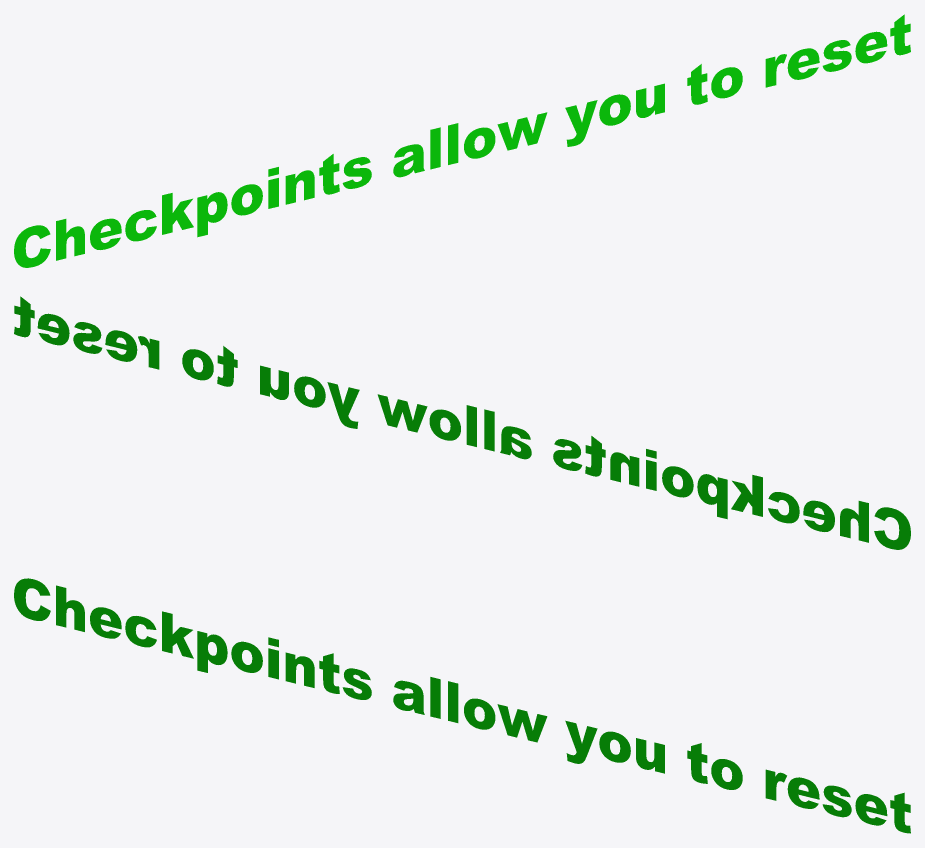
The model's file is tutorial_2.dae.
The picture shows the model from 3 angles, top to bottom: view 1: azimuth 30°, elevation 25°; view 2: azimuth 150°, elevation 25°; view 3: azimuth 330°, elevation 25°; orthographic projection.
Parts seen in each view (by area): view 1: Checkpoints_allo (×22); view 2: Checkpoints_allo (×22); view 3: Checkpoints_allo (×22).
Part boxes in pixels (x1,y1,x2,y2): Checkpoints_allo (×22): (14, 14, 910, 267); Checkpoints_allo (×22): (14, 296, 910, 549); Checkpoints_allo (×22): (14, 578, 910, 833).
Bounding box in the file's own units: 4655 × 1.08e-14 × 258.
